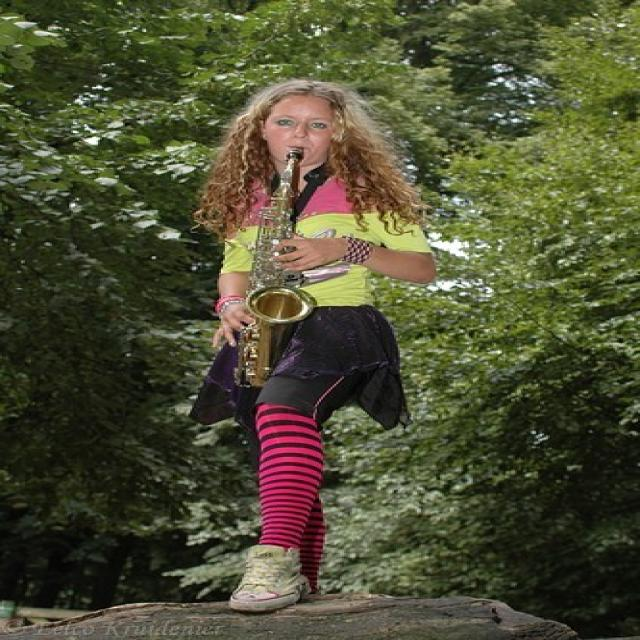saxophone: (234, 143, 317, 393)
